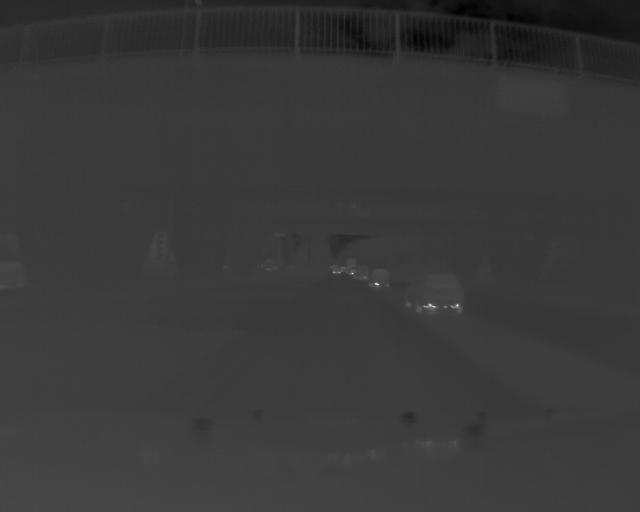car: (405, 272, 463, 313), (366, 267, 391, 287)
